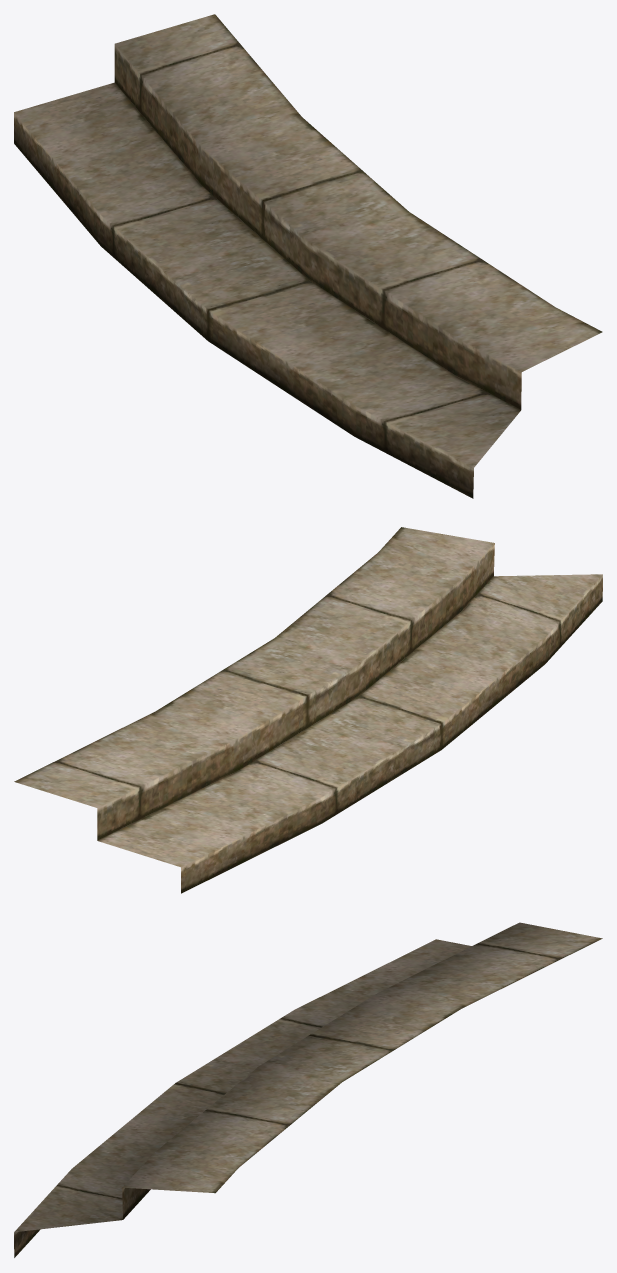
The model's file is EKH_THRONE_PS_TH_STEP_0292.fbx.
The picture shows the model from 3 angles, top to bottom: view 1: azimuth 30°, elevation 25°; view 2: azimuth 150°, elevation 25°; view 3: azimuth 330°, elevation 25°; orthographic projection. The views are drawn at different scales.
Visible parts, largest first — view 1: EKH_THRONE_PS_TH_STEP_0292; view 2: EKH_THRONE_PS_TH_STEP_0292; view 3: EKH_THRONE_PS_TH_STEP_0292.
Part boxes in pixels (x1,y1,x2,y2): EKH_THRONE_PS_TH_STEP_0292: (14,14,602,498); EKH_THRONE_PS_TH_STEP_0292: (14,527,602,893); EKH_THRONE_PS_TH_STEP_0292: (14,922,602,1257).
Size of the model in its own units: 19174 by 5895 by 62173.
1 material, 1 textured.
